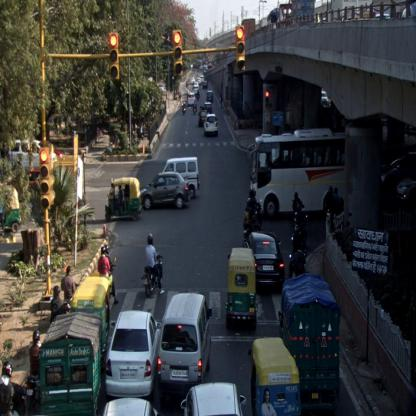bus: (250, 126, 346, 216)
car: (156, 290, 213, 384), (105, 312, 161, 398), (243, 231, 283, 294), (176, 383, 247, 415), (140, 173, 189, 209), (160, 156, 198, 200), (203, 115, 218, 135), (197, 108, 209, 126), (188, 93, 196, 107), (206, 89, 213, 104), (204, 102, 212, 115)
motorcycle: (25, 328, 41, 415)
truck: (280, 274, 340, 412), (40, 313, 102, 415)
